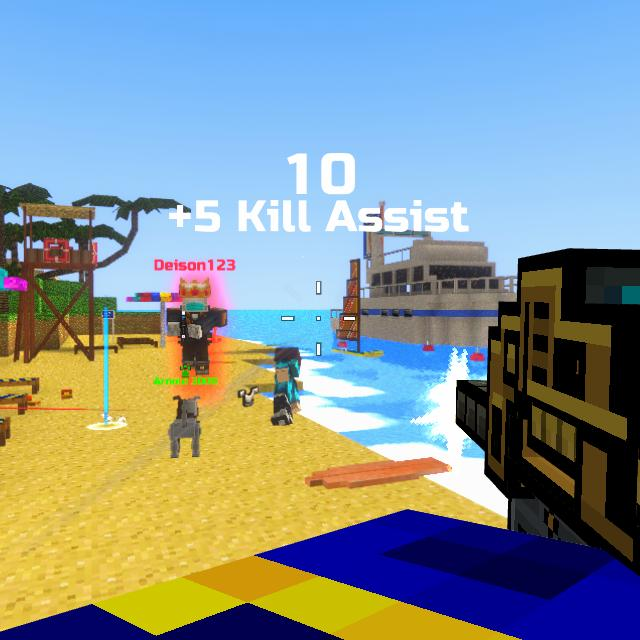Enemy: (166, 284, 228, 375)
